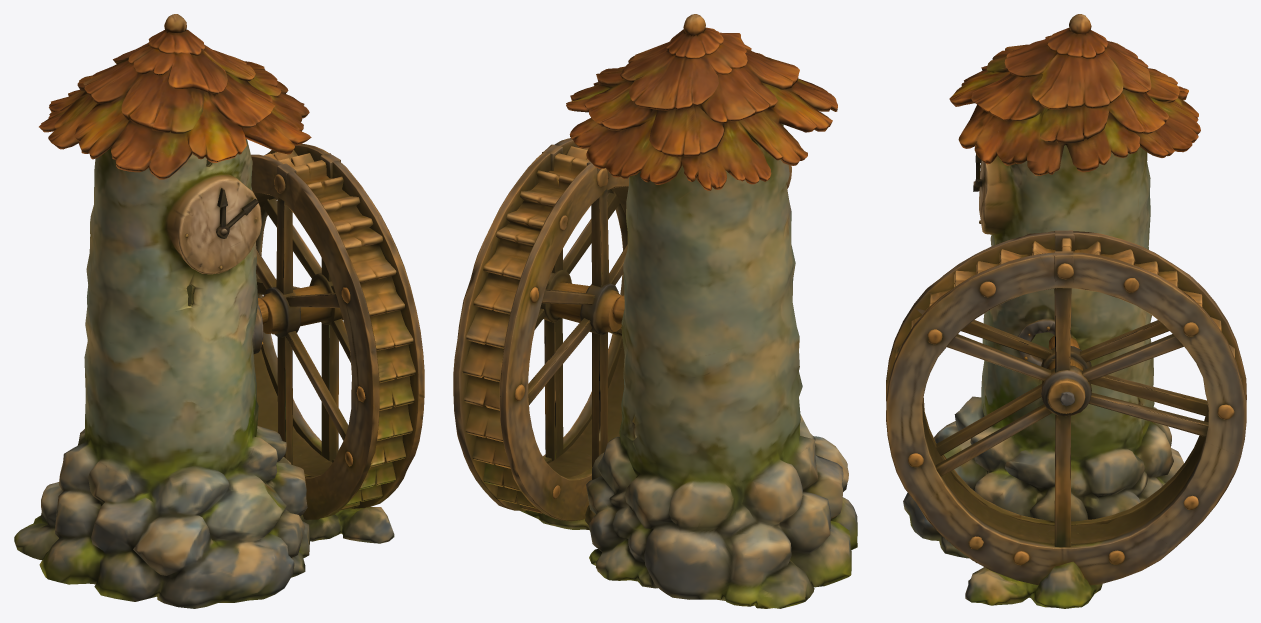
File: clock-tower.glb
3 views of the same model, side by side, from view 1: azimuth 30°, elevation 25°; view 2: azimuth 150°, elevation 25°; view 3: azimuth 270°, elevation 25° (orthographic). The views are drawn at different scales.
Visible parts, largest first — view 1: geometry_0; view 2: geometry_0; view 3: geometry_0.
Part boxes in pixels (<box>): geometry_0: <box>14,14,424,608</box>; geometry_0: <box>453,14,857,608</box>; geometry_0: <box>886,14,1246,608</box>.
Size of the model in its own units: 0.606 by 0.9521 by 0.6104.
Materials: 1 (1 with a texture image).
